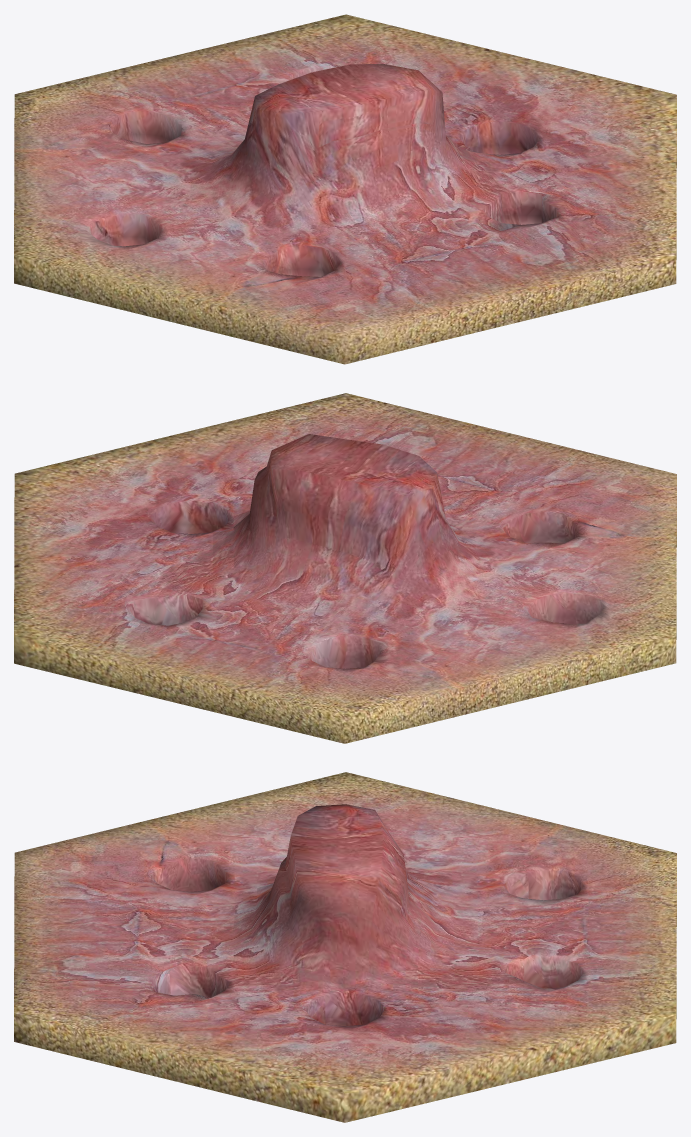
The model's file is greyhex.fbx.
3 renders of one model, top to bottom at view 1: azimuth 30°, elevation 25°; view 2: azimuth 150°, elevation 25°; view 3: azimuth 270°, elevation 25°, orthographic.
Parts seen in each view (by area): view 1: Hexa; view 2: Hexa; view 3: Hexa.
Part boxes in pixels (x1,y1,x2,y2): Hexa: [14, 14, 676, 364]; Hexa: [14, 393, 676, 743]; Hexa: [14, 772, 676, 1122].
Size of the model in its own units: 961 by 211 by 833.
1 material, 1 textured.
